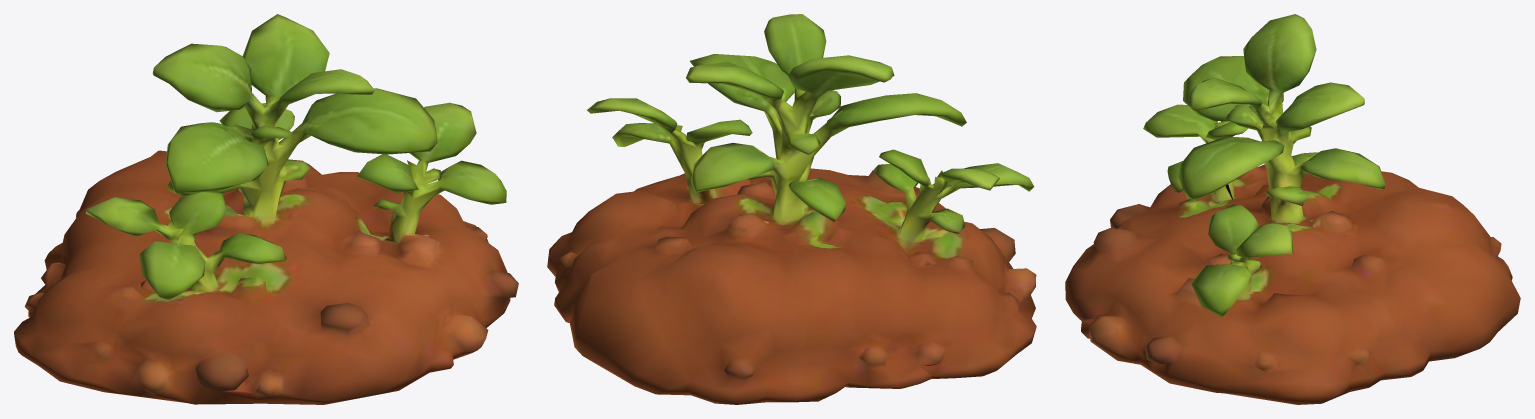
3 views of the same model, side by side, from view 1: azimuth 30°, elevation 25°; view 2: azimuth 150°, elevation 25°; view 3: azimuth 270°, elevation 25° (orthographic). The views are drawn at different scales.
Parts seen in each view (by area): view 1: potato-growing; view 2: potato-growing; view 3: potato-growing.
Part boxes in pixels (left/top/right/bottom): potato-growing: left=14, top=14, right=518, bottom=404; potato-growing: left=547, top=14, right=1036, bottom=404; potato-growing: left=1065, top=14, right=1520, bottom=404.
Size of the model in its own units: 0.7935 by 0.4471 by 0.7369.
Materials: 1 (1 with a texture image).
